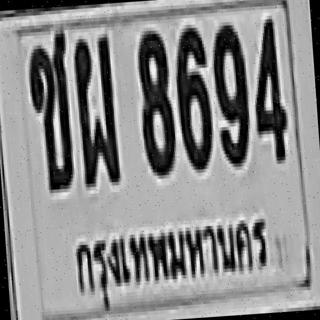A10: (24, 25, 76, 195)
A28: (72, 33, 122, 189)
N04: (248, 17, 289, 163)
N06: (172, 24, 214, 170)
N08: (134, 26, 178, 177)
N09: (210, 21, 252, 164)
P04: (64, 198, 275, 314)
